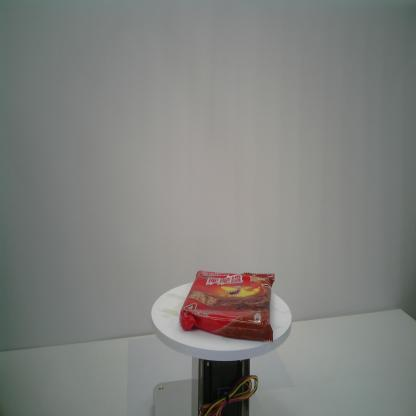Dessert: (178, 268, 276, 341)
